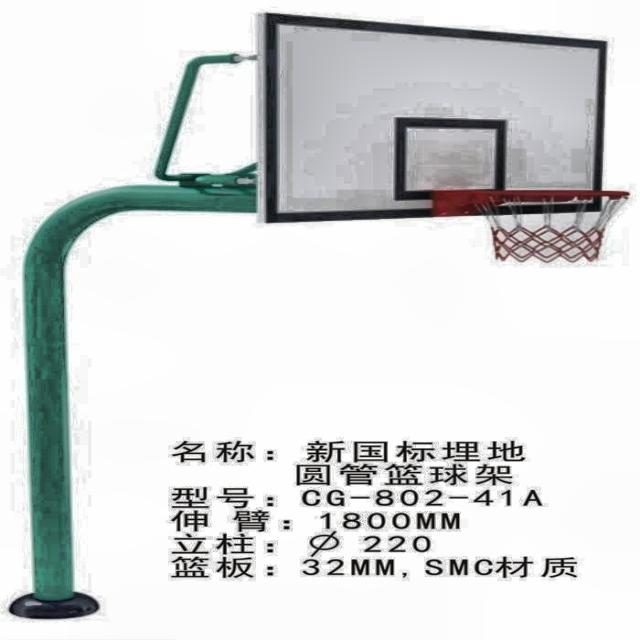rim: (463, 190, 635, 260)
